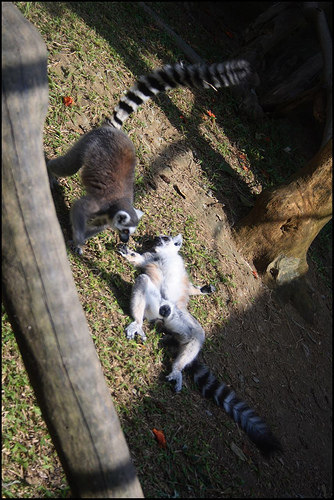cat: (37, 52, 252, 253), (118, 208, 280, 456)
